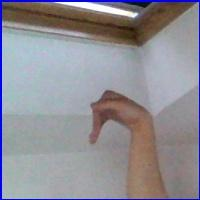del: (85, 84, 149, 150)
